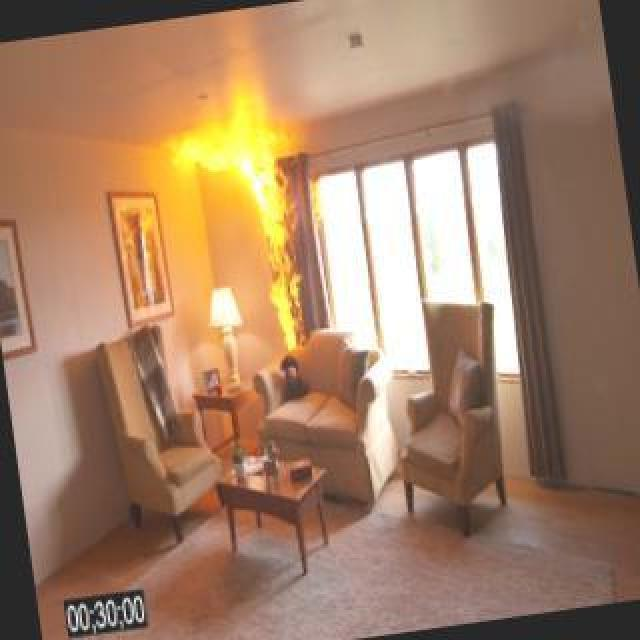fire: (176, 95, 294, 343)
